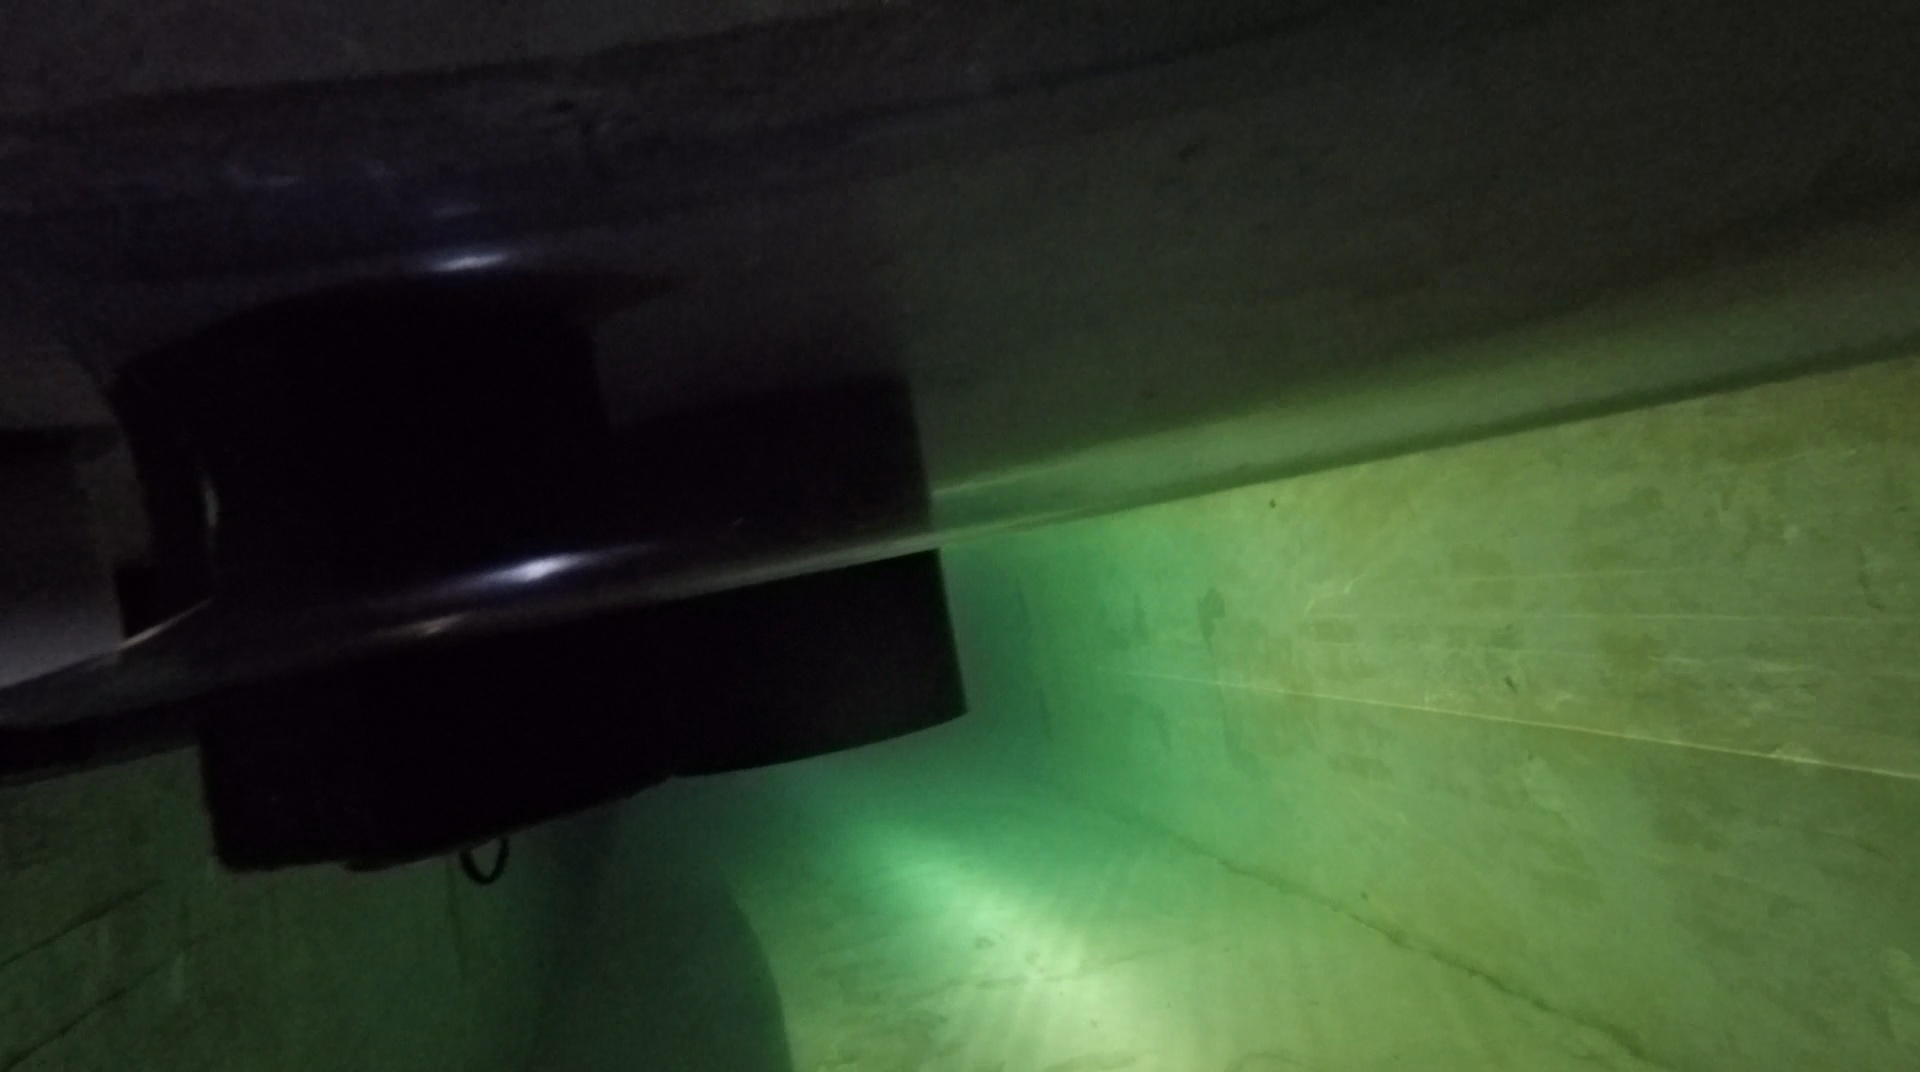led_block: (196, 610, 661, 885)
pipe: (1, 1, 1920, 709), (665, 364, 971, 777), (1, 432, 127, 686)
